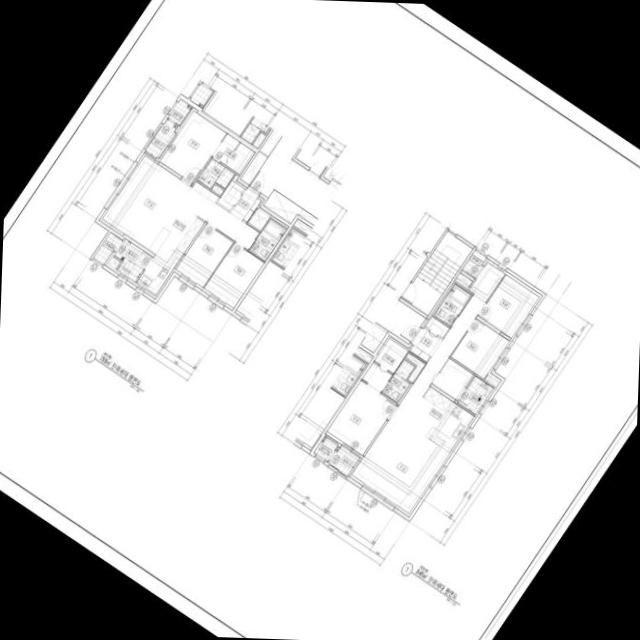background: (0, 0, 640, 640)
space_balconi: (113, 238, 151, 281), (456, 375, 492, 414), (144, 118, 177, 158), (326, 446, 358, 475)
space_bedroom: (325, 380, 395, 454), (159, 110, 226, 183), (203, 242, 263, 308), (477, 274, 538, 337), (449, 318, 508, 379), (175, 224, 232, 287)
space_dressroom: (361, 337, 407, 391), (211, 133, 253, 174)
space_front: (408, 327, 441, 362), (229, 186, 261, 222)
space_kitchen: (135, 208, 204, 295), (404, 385, 473, 452)
space_living_room: (351, 262, 504, 513), (101, 155, 258, 254)
space_other: (431, 358, 473, 400), (92, 232, 121, 264), (239, 151, 267, 184), (216, 180, 243, 210), (461, 250, 485, 278), (404, 352, 424, 382), (424, 316, 448, 338), (247, 208, 269, 230), (455, 272, 471, 286), (107, 256, 119, 269), (484, 374, 497, 386), (210, 184, 223, 195)
space_outdoor_room: (167, 98, 191, 125), (313, 435, 337, 461)
space_staircase: (401, 231, 472, 315)
space_toilet: (248, 218, 286, 261), (433, 283, 471, 326), (381, 359, 414, 402), (196, 157, 234, 188)
